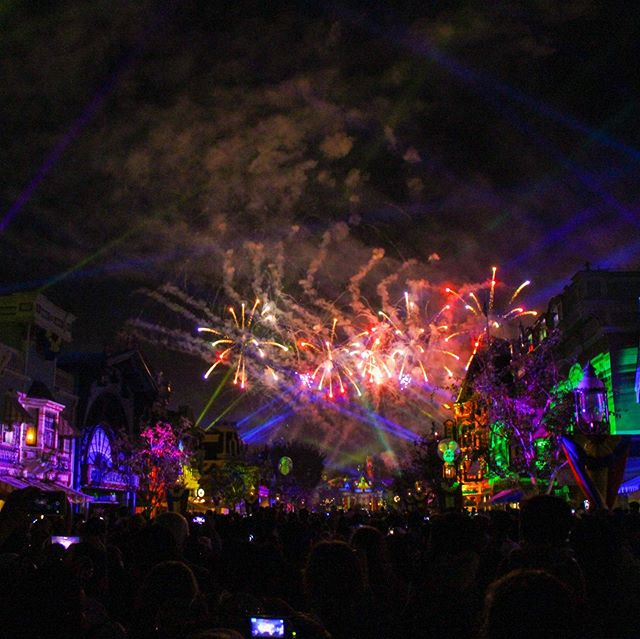building: (455, 275, 640, 498), (1, 287, 78, 489), (69, 350, 153, 521), (169, 425, 250, 519)
fireworks: (152, 225, 494, 424)
sky: (1, 1, 640, 267)
